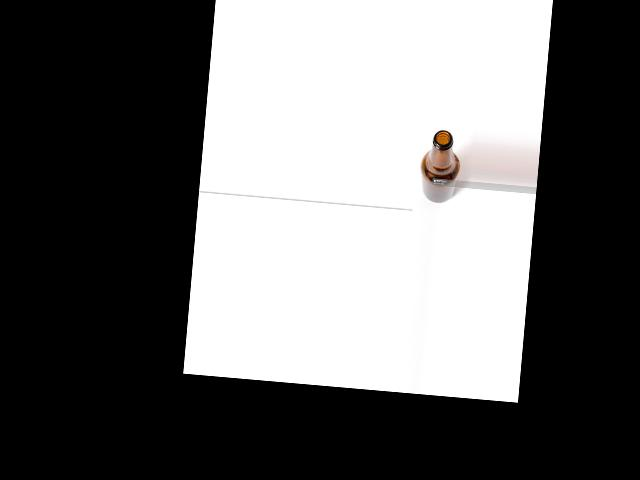beer: (418, 128, 463, 204)
